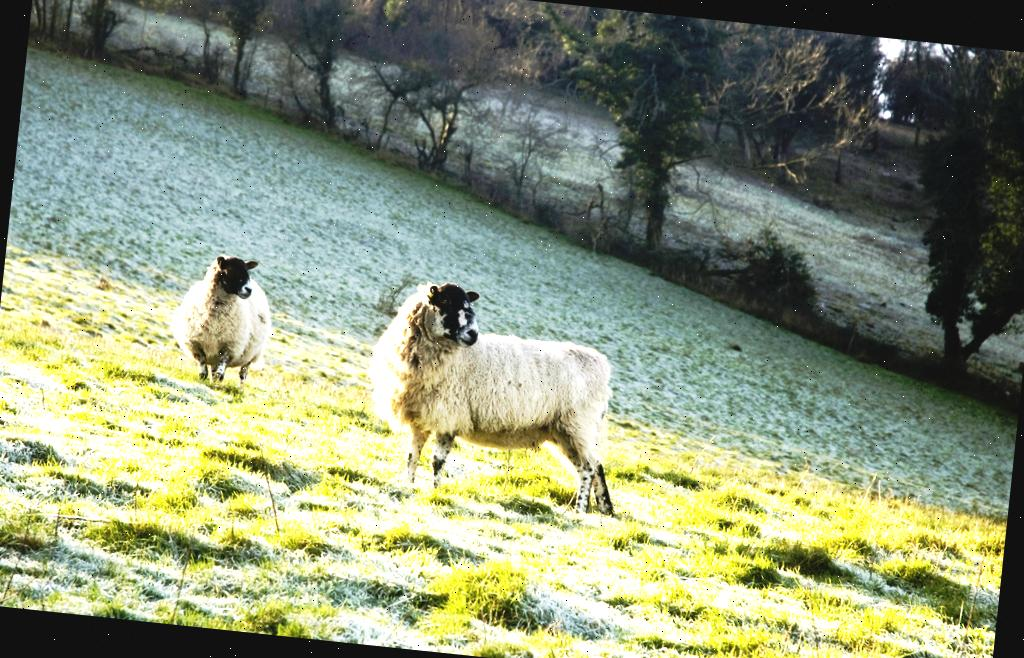Sheep: (353, 273, 635, 515), (162, 252, 276, 386)
